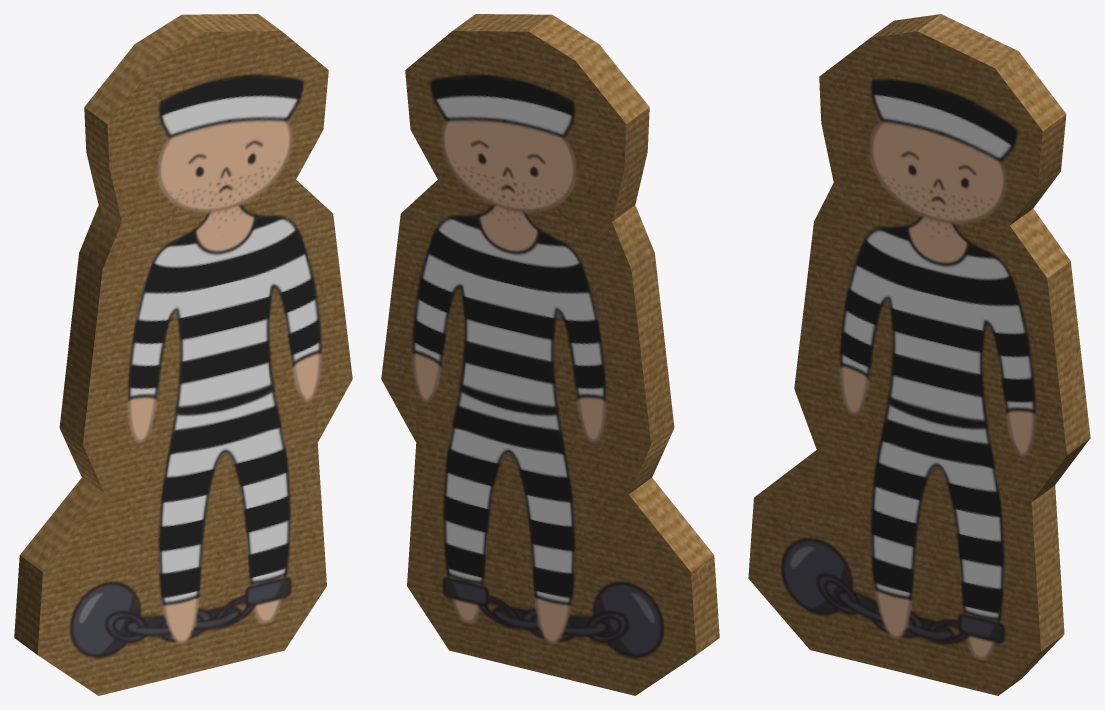
The model's file is Char_Prisoner.fbx.
3 renders of one model, left to right at view 1: azimuth 30°, elevation 25°; view 2: azimuth 150°, elevation 25°; view 3: azimuth 330°, elevation 25°, orthographic.
Parts seen in each view (by area): view 1: Prisoner; view 2: Prisoner; view 3: Prisoner.
Part boxes in pixels (box(x1,y1,x2,y2)): Prisoner: box(14, 14, 352, 695); Prisoner: box(381, 14, 719, 695); Prisoner: box(748, 14, 1090, 695).
Size of the model in its own units: 0.6238 by 1.21 by 0.0799.
